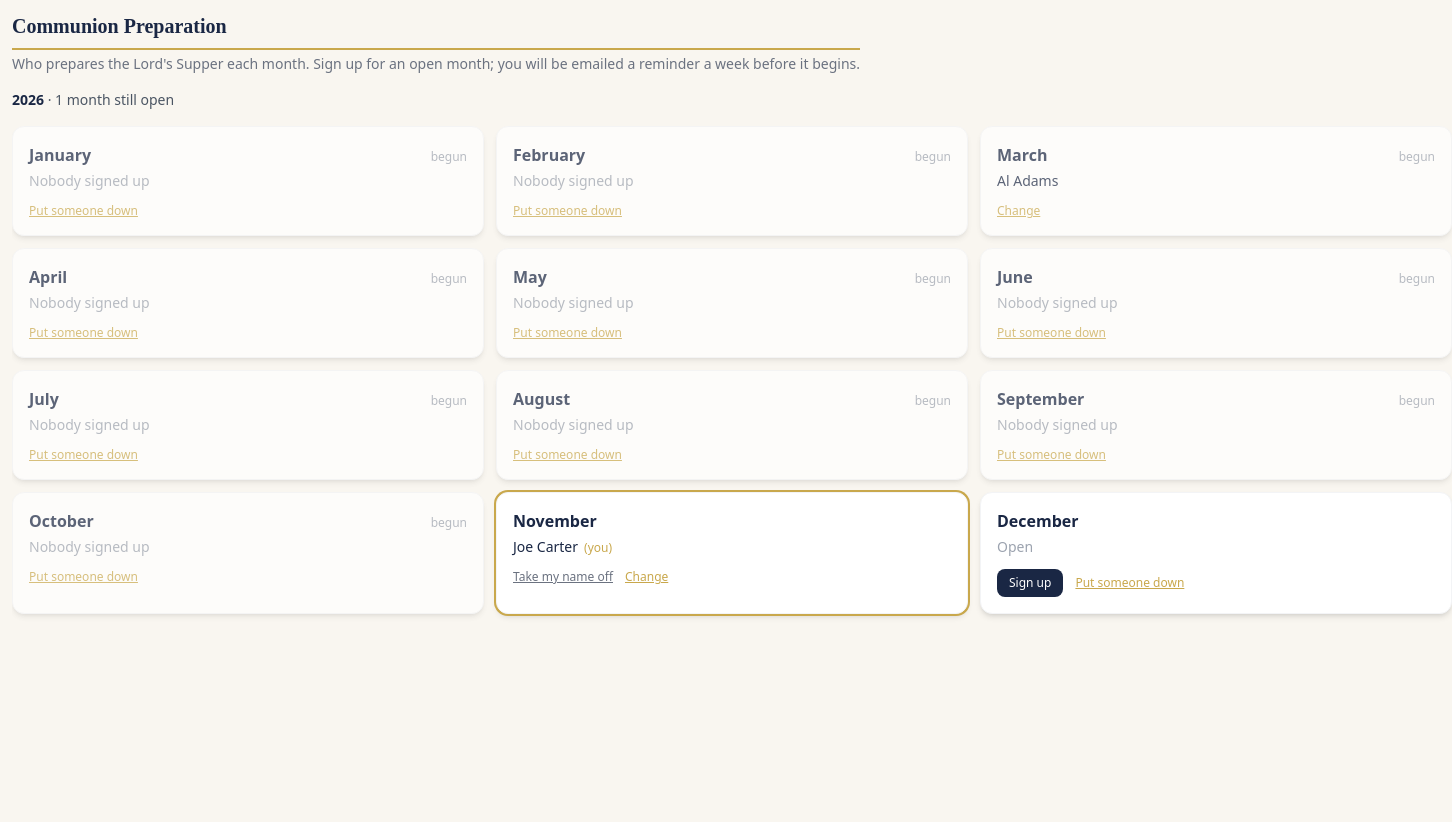
it: the communion preparation list › the keeper puts a name against a month, from the directory or typed
The width and height of the screenshot is (1452, 822).
Click the button with aria-label "Change who prepares December" at (1130, 583), box [1075,575,1184,591]
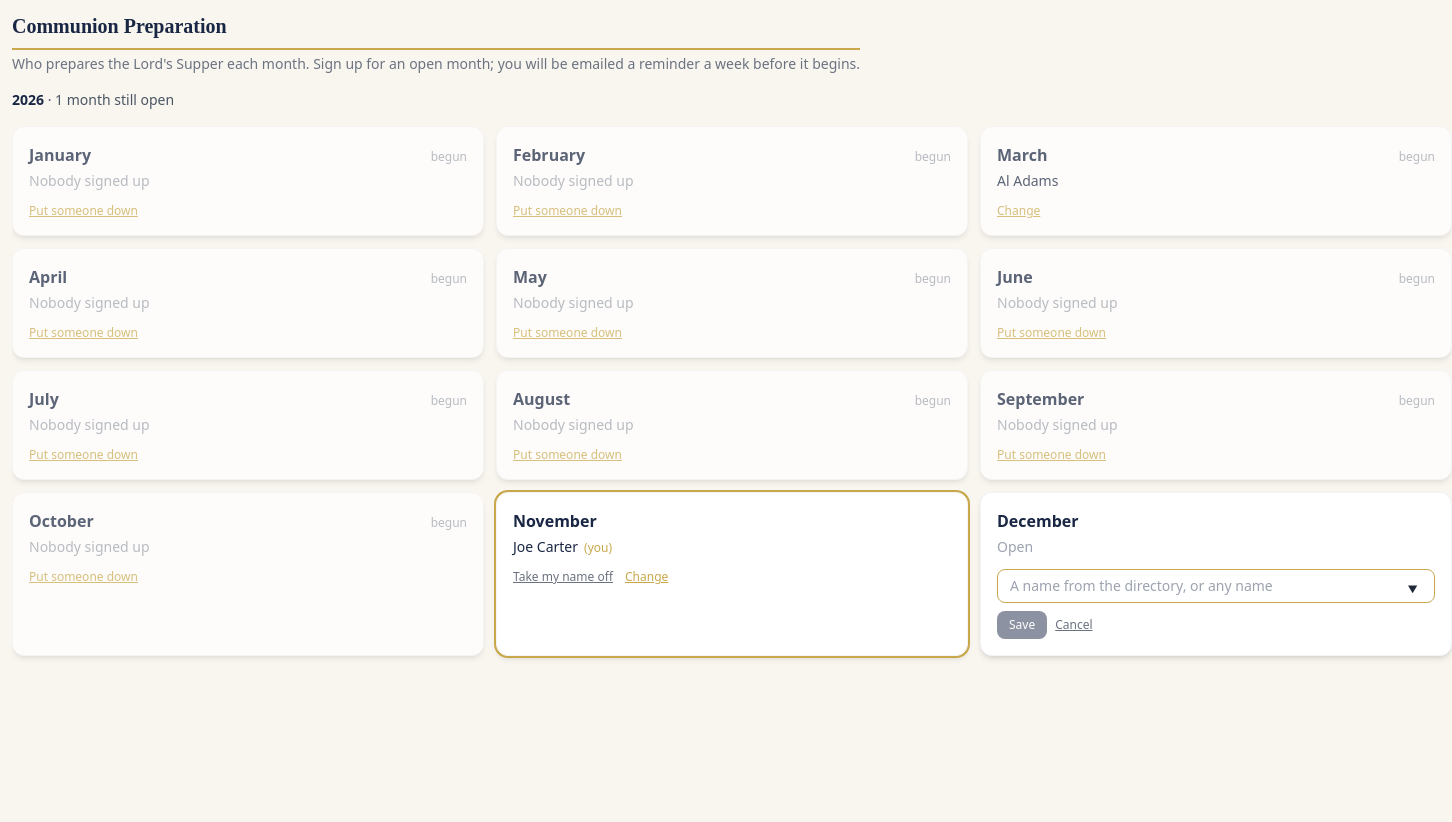
Type "Ned Poole" into the field named "Who prepares communion in December" at (1216, 586), box [997,569,1435,603]
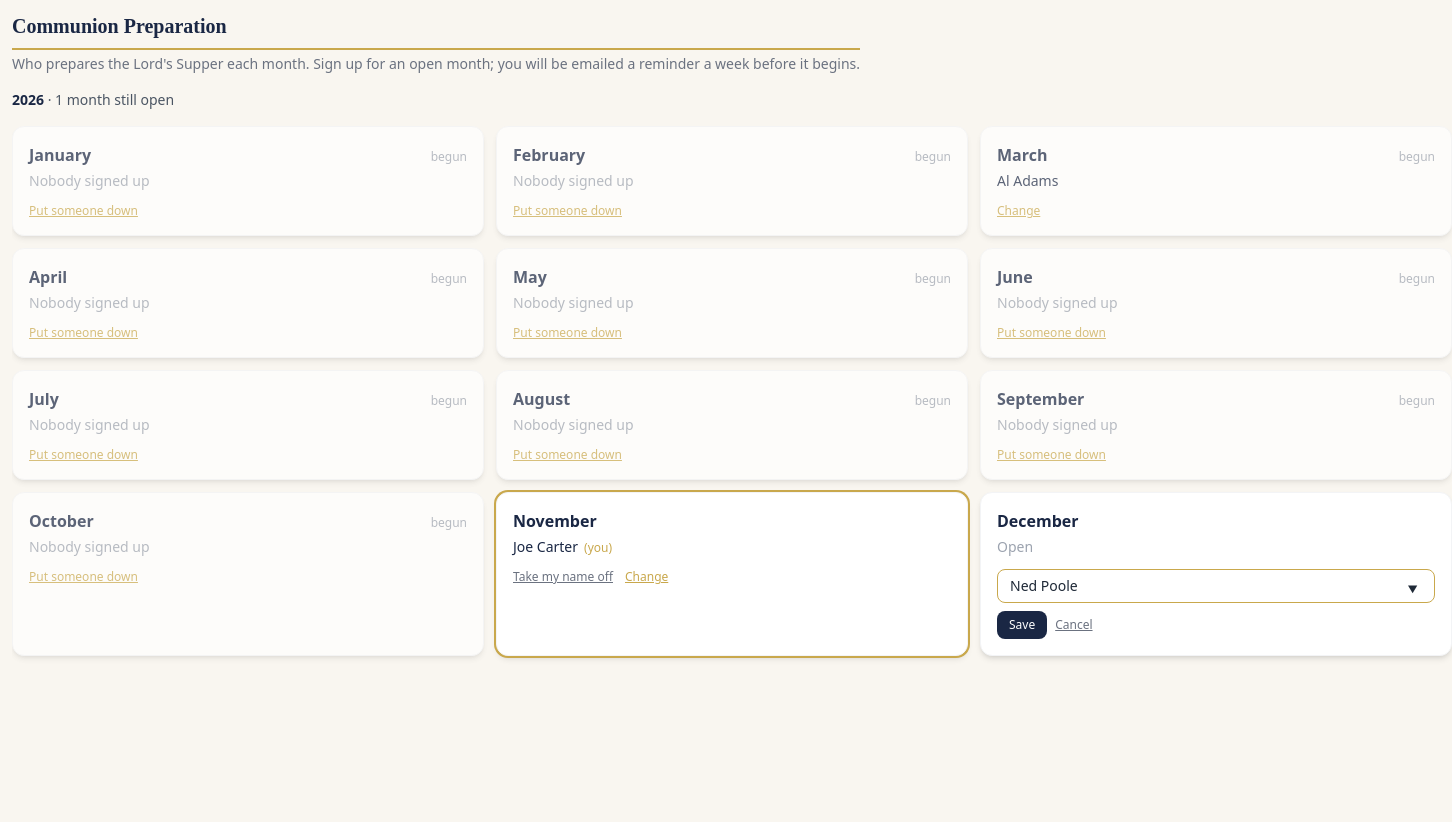
Click the button "Save" at (1022, 625), box [997,611,1047,639]
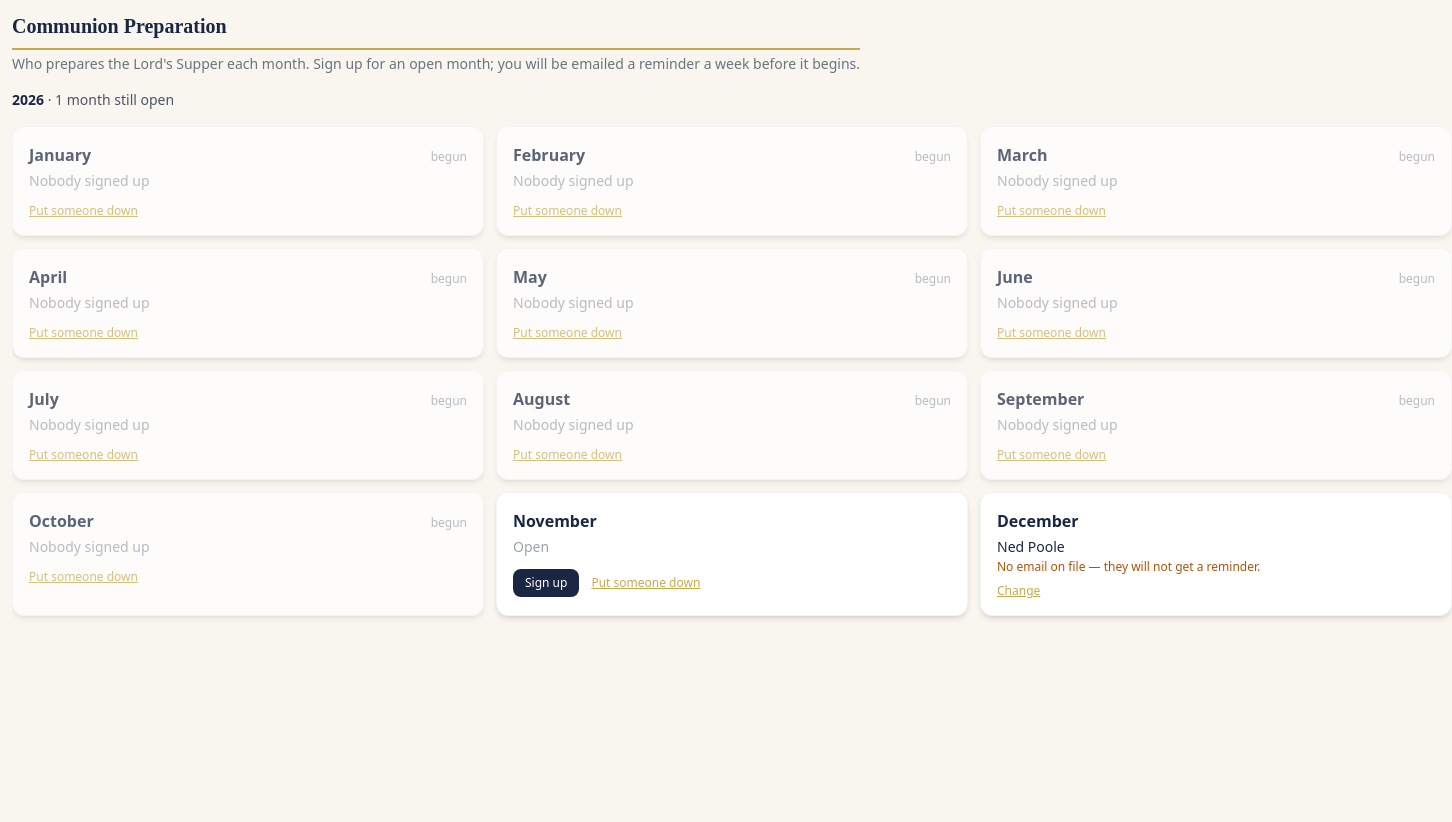
Now the text "No email on file — they will not get a reminder." is shown, box [997,558,1260,575]
